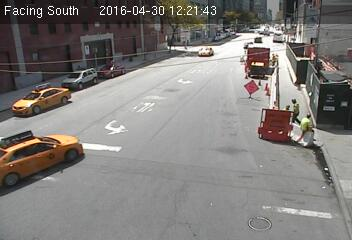neg: (132, 137, 174, 192), (210, 96, 225, 115), (151, 76, 165, 95), (200, 49, 212, 66)
pos: (285, 95, 306, 122), (297, 111, 315, 135), (277, 100, 295, 123)
